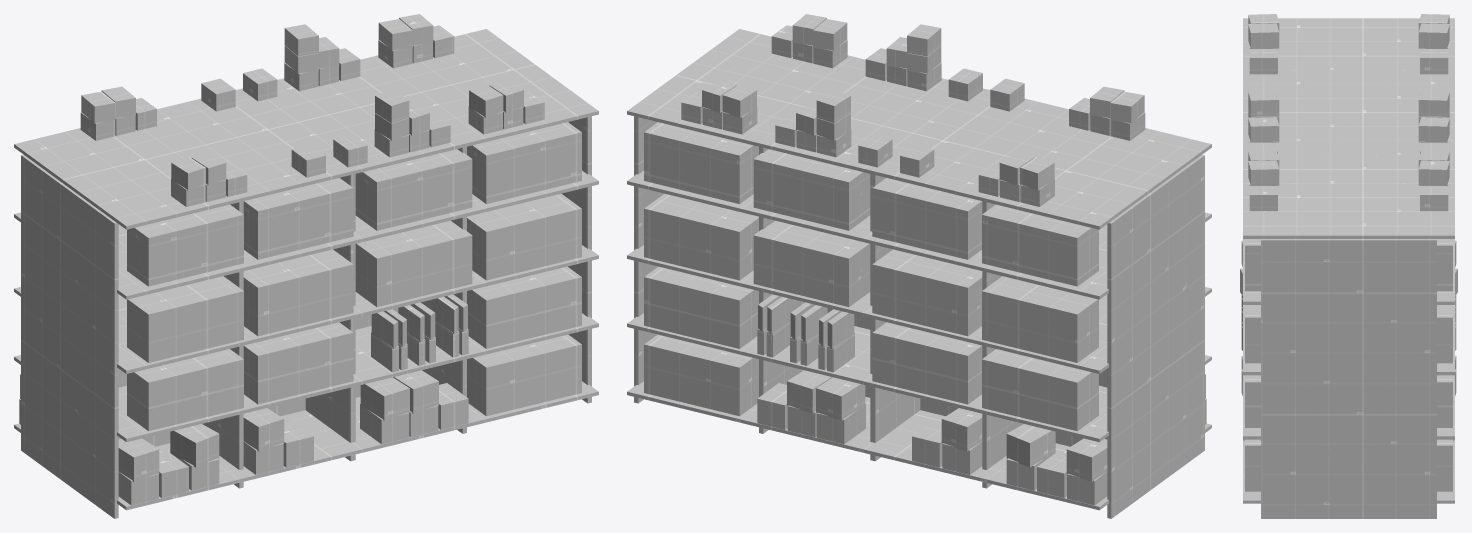
File: SM_Counter_Alley_01.FBX
3 views of the same model, side by side, from view 1: azimuth 30°, elevation 25°; view 2: azimuth 150°, elevation 25°; view 3: azimuth 270°, elevation 25° (orthographic). The views are drawn at different scales.
Parts seen in each view (by area): view 1: SM_Counter_Alley_01; view 2: SM_Counter_Alley_01; view 3: SM_Counter_Alley_01.
Part boxes in pixels (x1,y1,x2,y2): SM_Counter_Alley_01: (14,14,598,518); SM_Counter_Alley_01: (627,14,1211,518); SM_Counter_Alley_01: (1240,14,1457,518).
Size of the model in its own units: 291 by 205 by 122.
